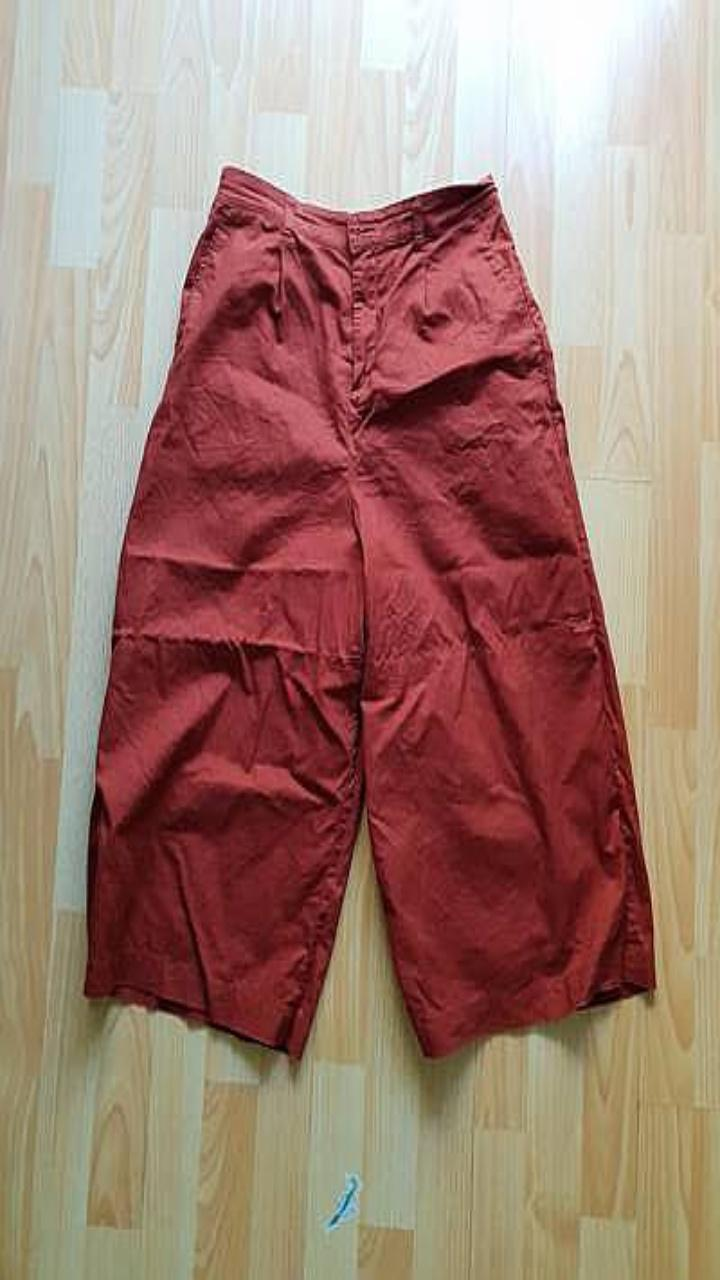Shorts: (84, 166, 655, 1058)
